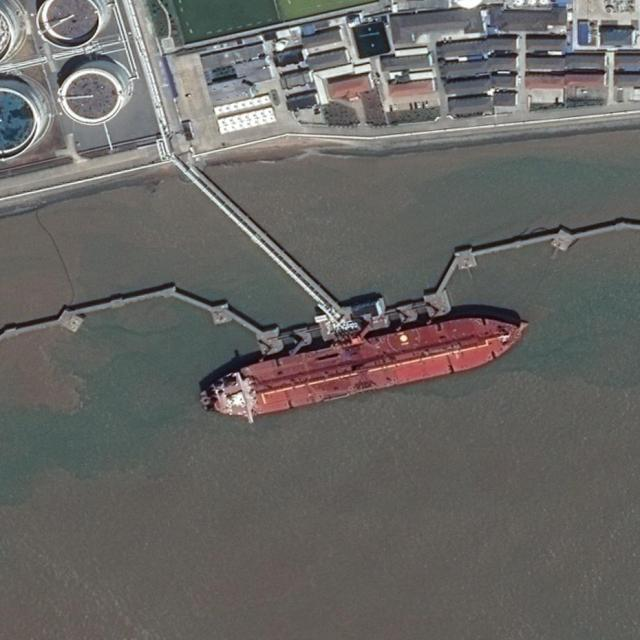Oil Tanker: (195, 308, 524, 426)
